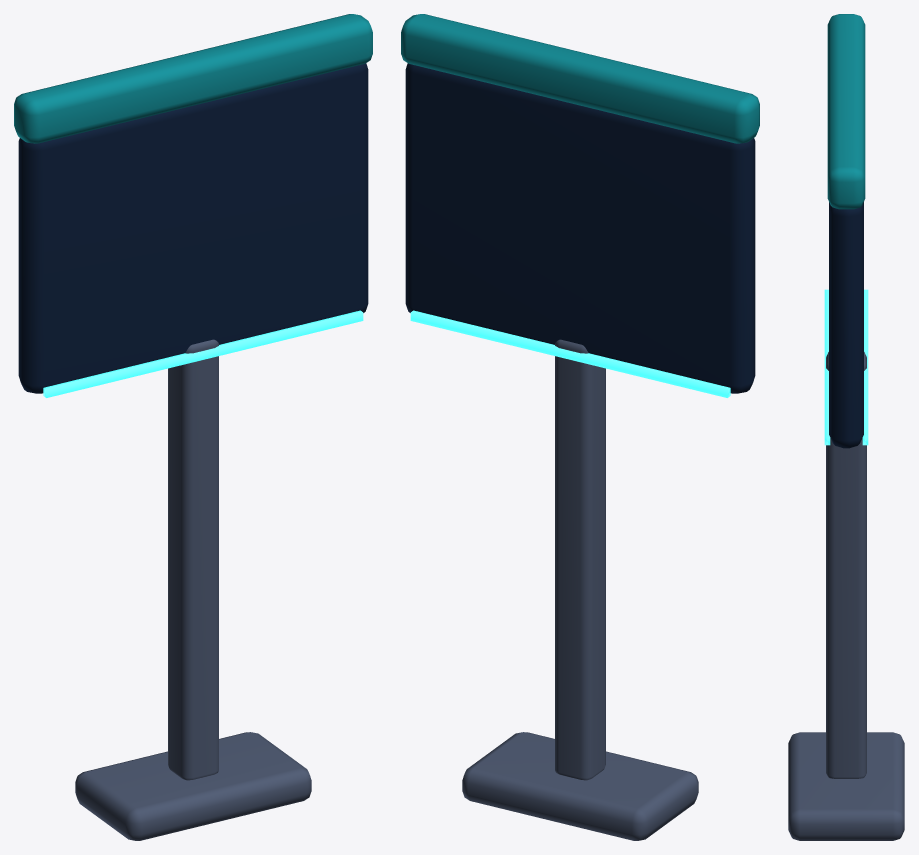
File: aqua_signpost.glb
3 views of the same model, side by side, from view 1: azimuth 30°, elevation 25°; view 2: azimuth 150°, elevation 25°; view 3: azimuth 270°, elevation 25° (orthographic). The views are drawn at different scales.
Parts seen in each view (by area): view 1: Signpost; view 2: Signpost; view 3: Signpost.
Part boxes in pixels (bbox=[...]): Signpost: bbox=[14, 14, 372, 840]; Signpost: bbox=[401, 14, 759, 840]; Signpost: bbox=[788, 14, 904, 840].
Bounding box in the file's own units: 1.32 × 2.7 × 0.4.
